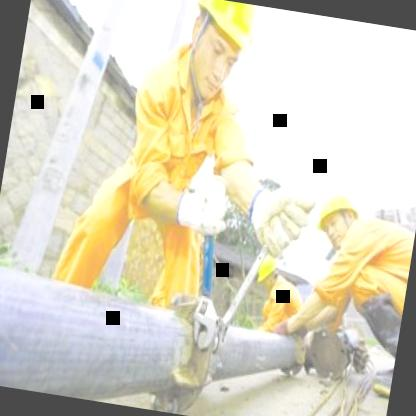helmet: (170, 0, 267, 116), (307, 182, 367, 254), (250, 249, 285, 290)
